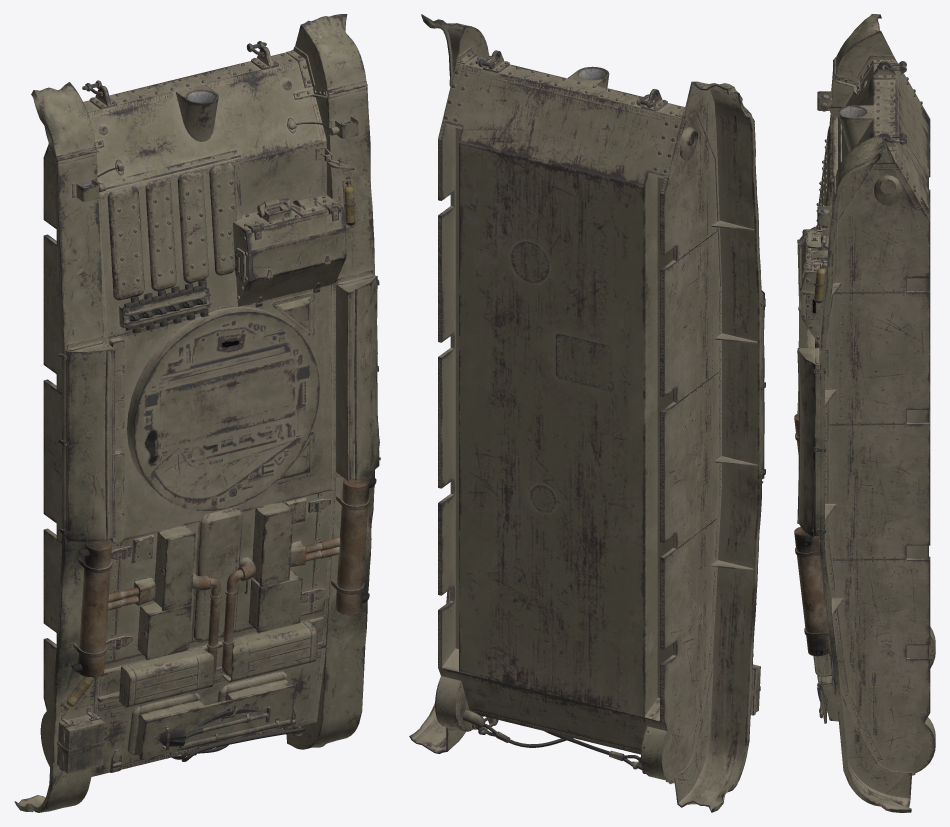
The model's file is Hull.glb.
The picture shows the model from 3 angles, left to right: view 1: azimuth 30°, elevation 25°; view 2: azimuth 150°, elevation 25°; view 3: azimuth 270°, elevation 25°; orthographic projection. The views are drawn at different scales.
Parts seen in each view (by area): view 1: set_0_group_0; view 2: set_0_group_0; view 3: set_0_group_0.
Part boxes in pixels (left/top/right/bottom): set_0_group_0: left=14, top=14, right=380, bottom=812; set_0_group_0: left=409, top=14, right=765, bottom=812; set_0_group_0: left=794, top=14, right=935, bottom=812.
Size of the model in its own units: 2.68 by 5.88 by 1.13.
1 material, 1 textured.
